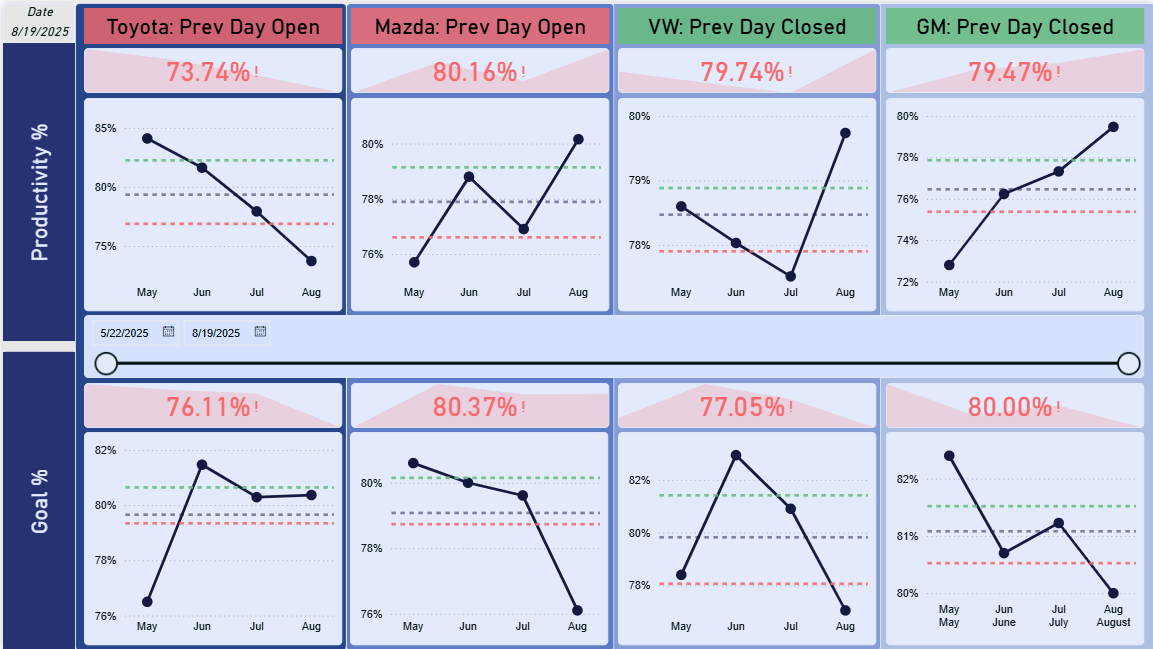

The page's visual inventory and layout, read from the dashboard file:
{"tool":"powerbi","page":{"name":"MAIN","canvas":[1280,720],"ordinal":0},"visuals":[{"type":"shape","box":[0,44.4,80,675.6],"z":0},{"type":"shape","box":[971.7,0,308.3,720],"z":1000},{"type":"shape","box":[675.8,0,299.9,720],"z":2000},{"type":"shape","box":[380.8,0,298,720],"z":3000},{"type":"shape","box":[80,0,301.7,720],"z":4000},{"type":"slicer","fields":{"Values":["Dates.Date"]},"box":[90,346.7,1177.8,70],"z":5000},{"type":"card","fields":{"Values":["PreviousPlannerDay.FacilityTitle"]},"box":[90,5,287.4,40],"z":6000},{"type":"lineChart","title":"Toyota Productivity %","fields":{"Y":["Avg(Planner.Productivity %)"],"Category":["Dates.MonthYear Hierarchy.MonthYear","Dates.MonthYear Hierarchy.WeekYear","Dates.MonthYear Hierarchy.Date"]},"box":[90,105,287,237],"z":7000},{"type":"card","fields":{"Values":["PreviousPlannerDay.FacilityTitle"]},"box":[386.2,5,287.4,40],"z":8000},{"type":"card","fields":{"Values":["PreviousPlannerDay.FacilityTitle"]},"box":[682.9,5,287.4,40],"z":9000},{"type":"lineChart","title":"Toyota Productivity %","fields":{"Y":["Avg(Planner.Goal %)"],"Category":["Dates.MonthYear Hierarchy.MonthYear","Dates.MonthYear Hierarchy.WeekYear","Dates.MonthYear Hierarchy.Date"]},"box":[90,477,287,237],"z":10000},{"type":"lineChart","title":"VW Productivity %","fields":{"Y":["Avg(Planner.Productivity %)"],"Category":["Dates.MonthYear Hierarchy.MonthYear","Dates.MonthYear Hierarchy.WeekYear","Dates.MonthYear Hierarchy.Date"]},"box":[683.3,105,287,237],"z":11000},{"type":"card","fields":{"Values":["PreviousPlannerDay.FacilityTitle"]},"box":[980.8,5,287.4,40],"z":12000},{"type":"lineChart","title":"Mazda Productivity %","fields":{"Y":["Avg(Planner.Productivity %)"],"Category":["Dates.MonthYear Hierarchy.MonthYear","Dates.MonthYear Hierarchy.WeekYear","Dates.MonthYear Hierarchy.Date"]},"box":[386.7,105,287,237],"z":13000},{"type":"lineChart","title":"VW Productivity %","fields":{"Y":["Avg(Planner.Goal %)"],"Category":["Dates.MonthYear Hierarchy.MonthYear","Dates.MonthYear Hierarchy.WeekYear","Dates.MonthYear Hierarchy.Date"]},"box":[683.1,477,287,237],"z":14000},{"type":"shape","box":[0,44.4,80,331.1],"z":15000},{"type":"shape","box":[0,387.8,80,332.2],"z":16000},{"type":"lineChart","title":"GM Productivity %","fields":{"Y":["Avg(Planner.Productivity %)"],"Category":["Dates.MonthYear Hierarchy.MonthYear","Dates.MonthYear Hierarchy.WeekYear","Dates.MonthYear Hierarchy.Date"]},"box":[981.1,105,287,237],"z":17000},{"type":"kpi","title":"Productivity %","fields":{"Indicator":["Avg(Planner.Productivity %)"],"TrendLine":["Dates.MonthYear Hierarchy.MonthYear"],"Goal":["Planner.TargetForGoal%"]},"box":[90,50,287,50],"z":18000},{"type":"kpi","title":"Productivity %","fields":{"Indicator":["Avg(Planner.Productivity %)"],"TrendLine":["Dates.MonthYear Hierarchy.MonthYear"],"Goal":["Planner.TargetForGoal%"]},"box":[386.6,50.3,287,50],"z":19000},{"type":"kpi","title":"Productivity %","fields":{"Indicator":["Avg(Planner.Productivity %)"],"TrendLine":["Dates.MonthYear Hierarchy.MonthYear"],"Goal":["Planner.TargetForGoal%"]},"box":[683.3,50,287,50],"z":20000},{"type":"kpi","title":"Productivity %","fields":{"Indicator":["Avg(Planner.Productivity %)"],"TrendLine":["Dates.MonthYear Hierarchy.MonthYear"],"Goal":["Planner.TargetForGoal%"]},"box":[981.1,50,287,50],"z":21000},{"type":"lineChart","title":"GM Productivity %","fields":{"Y":["Avg(Planner.Goal %)"],"Category":["Dates.Month","Dates.MonthYear Hierarchy.MonthYear","Dates.MonthYear Hierarchy.WeekYear","Dates.MonthYear Hierarchy.Date"]},"box":[980.8,477,287,237],"z":22000},{"type":"card","title":"Date","fields":{"Values":["PreviousPlannerDay.DashboardTitle"]},"box":[0,0,80,44.4],"z":23000},{"type":"kpi","title":"Goal %","fields":{"Indicator":["Avg(Planner.Goal %)"],"TrendLine":["Dates.MonthYear Hierarchy.MonthYear"],"Goal":["Planner.TargetForGoal%"]},"box":[90,422,287,50],"z":24000},{"type":"kpi","title":"Goal %","fields":{"Indicator":["Avg(Planner.Goal %)"],"TrendLine":["Dates.MonthYear Hierarchy.MonthYear"],"Goal":["Planner.TargetForGoal%"]},"box":[683.1,422,287,50],"z":25000},{"type":"kpi","title":"Goal %","fields":{"Indicator":["Avg(Planner.Goal %)"],"TrendLine":["Dates.MonthYear Hierarchy.MonthYear"],"Goal":["Planner.TargetForGoal%"]},"box":[386.7,422,287,50],"z":26000},{"type":"kpi","title":"Goal %","fields":{"Indicator":["Avg(Planner.Goal %)"],"TrendLine":["Dates.MonthYear Hierarchy.MonthYear"],"Goal":["Planner.TargetForGoal%"]},"box":[980.8,422,287,50],"z":27000},{"type":"lineChart","title":"Mazda Productivity %","fields":{"Y":["Avg(Planner.Goal %)"],"Category":["Dates.MonthYear Hierarchy.MonthYear","Dates.MonthYear Hierarchy.WeekYear","Dates.MonthYear Hierarchy.Date"]},"box":[385.6,477,287,237],"z":28000},{"type":"shape","box":[0,375,80,12],"z":29000}]}

Visuals, with their boxes in screenshot pixels (x1, y1, x2, y2), scaled from the page's 1280x720 canvas onto the 1153x649 screenshot:
shape: [0, 40, 72, 648]
shape: [875, 0, 1152, 648]
shape: [609, 0, 879, 648]
shape: [343, 0, 611, 648]
shape: [72, 0, 344, 648]
slicer - Dates.Date: [81, 313, 1142, 376]
card - PreviousPlannerDay.FacilityTitle: [81, 5, 340, 41]
"Toyota Productivity %" lineChart: [81, 95, 340, 308]
card - PreviousPlannerDay.FacilityTitle: [348, 5, 607, 41]
card - PreviousPlannerDay.FacilityTitle: [615, 5, 874, 41]
"Toyota Productivity %" lineChart: [81, 430, 340, 644]
"VW Productivity %" lineChart: [616, 95, 874, 308]
card - PreviousPlannerDay.FacilityTitle: [883, 5, 1142, 41]
"Mazda Productivity %" lineChart: [348, 95, 607, 308]
"VW Productivity %" lineChart: [615, 430, 874, 644]
shape: [0, 40, 72, 338]
shape: [0, 350, 72, 648]
"GM Productivity %" lineChart: [884, 95, 1142, 308]
"Productivity %" kpi: [81, 45, 340, 90]
"Productivity %" kpi: [348, 45, 607, 90]
"Productivity %" kpi: [616, 45, 874, 90]
"Productivity %" kpi: [884, 45, 1142, 90]
"GM Productivity %" lineChart: [883, 430, 1142, 644]
"Date" card: [0, 0, 72, 40]
"Goal %" kpi: [81, 380, 340, 425]
"Goal %" kpi: [615, 380, 874, 425]
"Goal %" kpi: [348, 380, 607, 425]
"Goal %" kpi: [883, 380, 1142, 425]
"Mazda Productivity %" lineChart: [347, 430, 606, 644]
shape: [0, 338, 72, 349]
